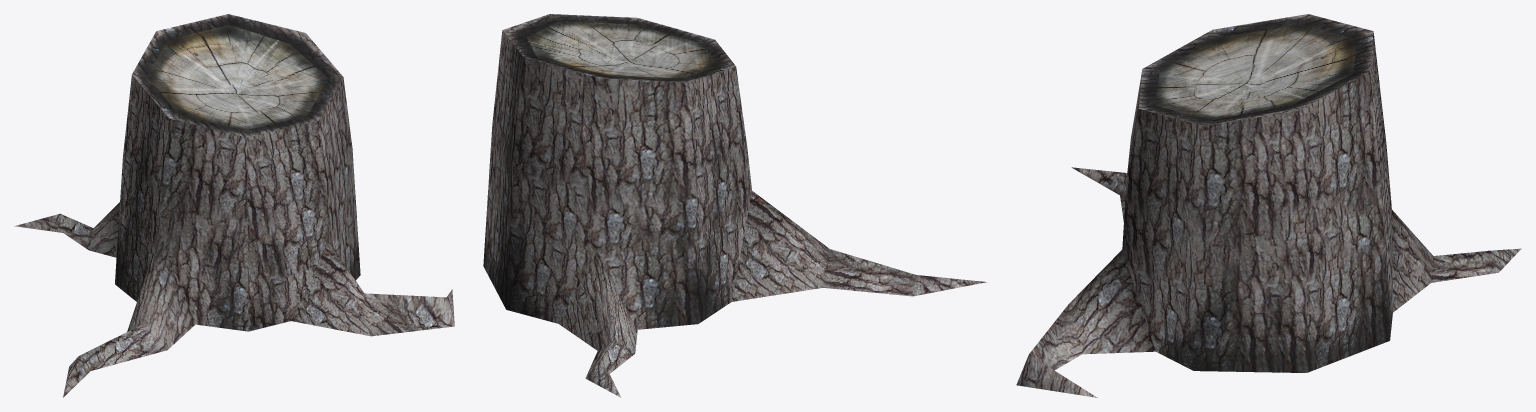
The model's file is stump_LOD1.FBX.
3 renders of one model, left to right at view 1: azimuth 30°, elevation 25°; view 2: azimuth 150°, elevation 25°; view 3: azimuth 270°, elevation 25°, orthographic. The views are drawn at different scales.
Visible parts, largest first — view 1: stump001; view 2: stump001; view 3: stump001.
Part boxes in pixels (x1,y1,x2,y2): stump001: (14, 14, 454, 397); stump001: (483, 14, 986, 397); stump001: (1016, 14, 1521, 397).
Size of the model in its own units: 7.1 by 3.79 by 6.47.
Materials: 1 (1 with a texture image).
